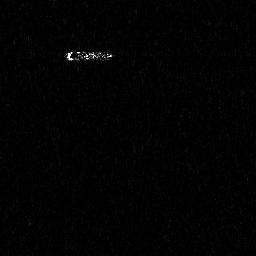ship: (63, 46, 115, 64)
